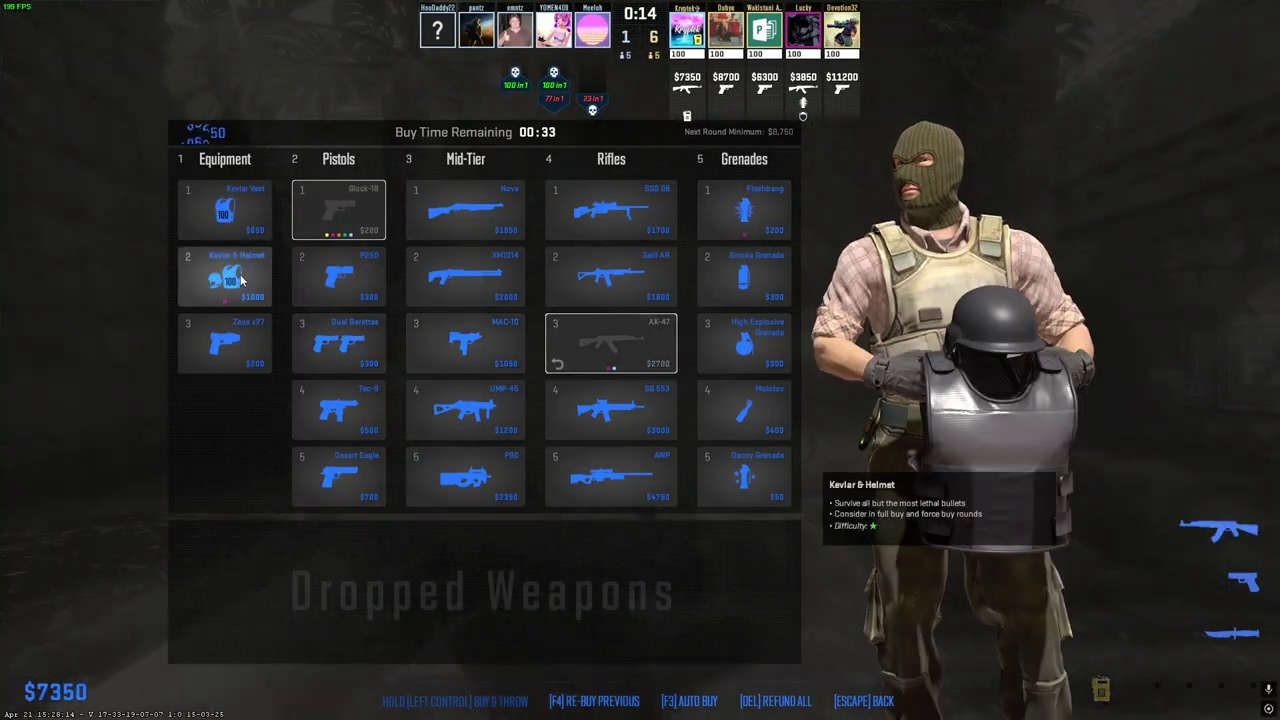Terrorist: (855, 121, 1084, 720)
